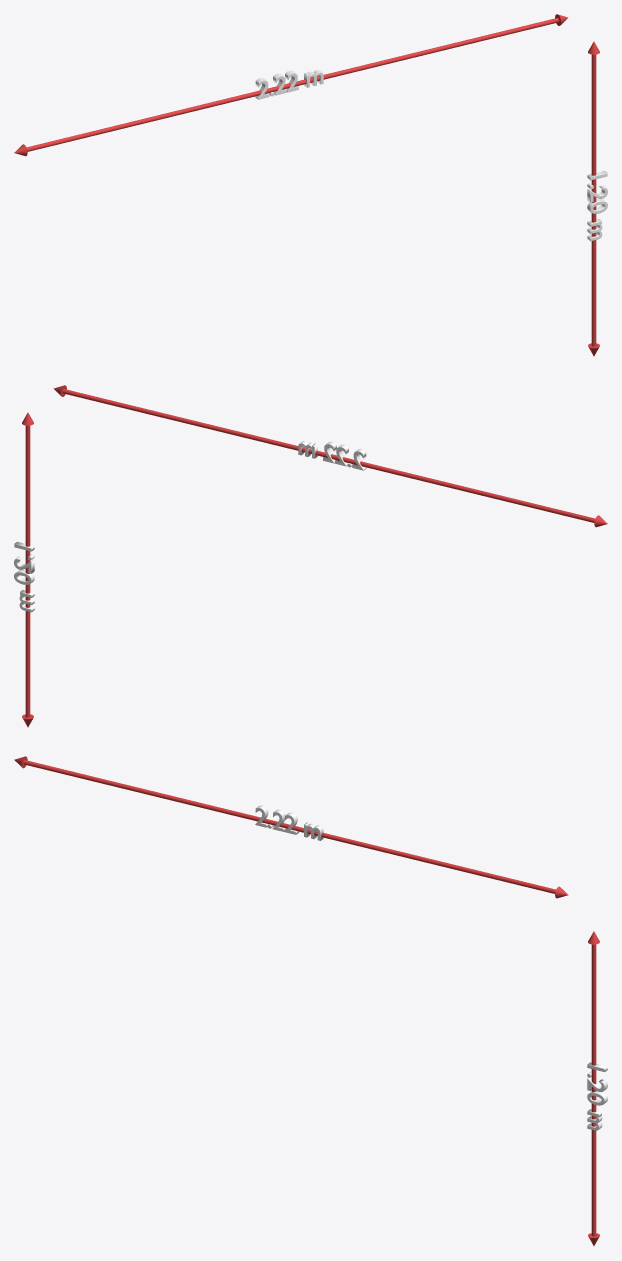
Rendered from dimentionFDDM7.gltf.
3 views of the same model, one above another, from view 1: azimuth 30°, elevation 25°; view 2: azimuth 150°, elevation 25°; view 3: azimuth 330°, elevation 25° (orthographic).
Parts seen in each view (by area): view 1: Text.008; view 2: Text.008; view 3: Text.008.
Boxes of the visible parts, bbox=[...] form: Text.008: bbox=[14, 14, 607, 356]; Text.008: bbox=[14, 385, 607, 727]; Text.008: bbox=[14, 756, 607, 1245].
Bounding box in the file's own units: 24.56 × 14.21 × 0.4388.
